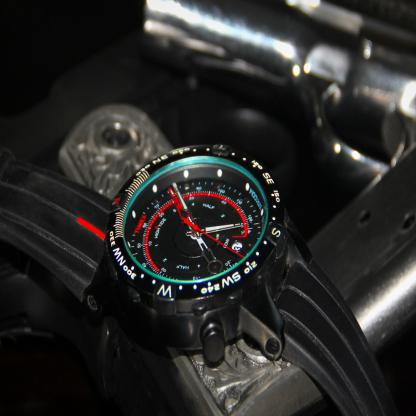gun: (0, 0, 367, 415), (19, 0, 415, 321)
